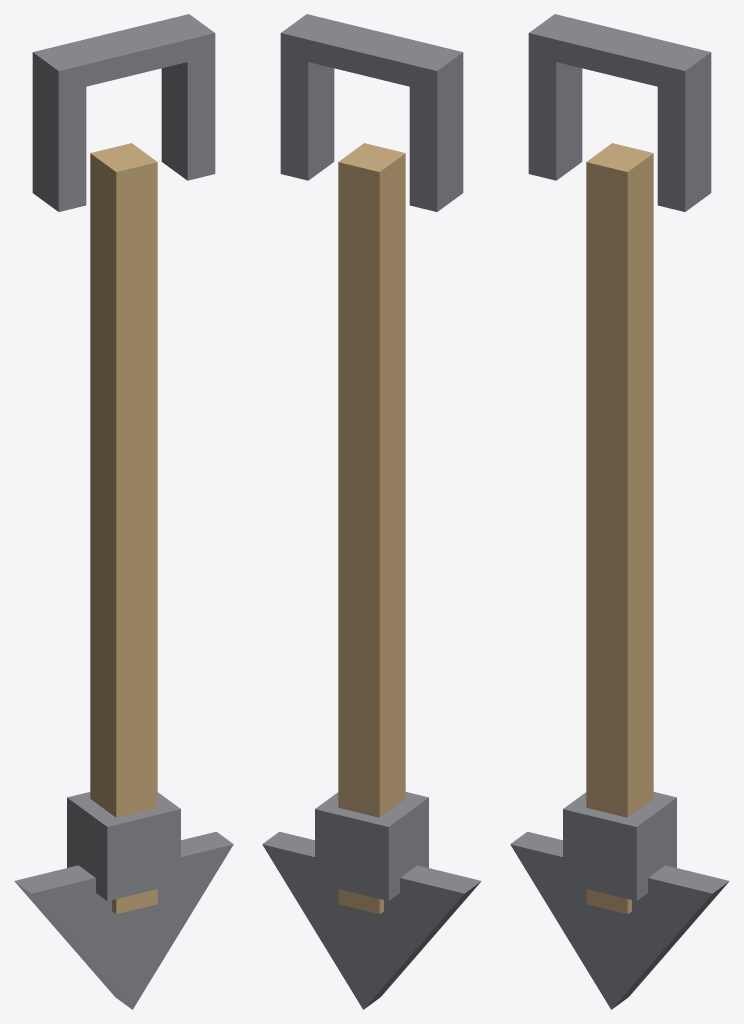
The model's file is Shovel.fbx.
3 renders of one model, left to right at view 1: azimuth 30°, elevation 25°; view 2: azimuth 150°, elevation 25°; view 3: azimuth 330°, elevation 25°, orthographic.
Parts seen in each view (by area): view 1: Shovel_Shaft, Shovel_Blade, Shovel_Socket, Shovel_HandleTop, Shovel_HandleL, Shovel_HandleR; view 2: Shovel_Shaft, Shovel_Blade, Shovel_Socket, Shovel_HandleTop, Shovel_HandleL, Shovel_HandleR; view 3: Shovel_Shaft, Shovel_Blade, Shovel_Socket, Shovel_HandleTop, Shovel_HandleR, Shovel_HandleL.
Boxes of the visible parts, <box> form: Shovel_Shaft: <box>90,143,157,914</box>; Shovel_Blade: <box>14,831,233,1009</box>; Shovel_Socket: <box>67,792,180,901</box>; Shovel_HandleTop: <box>32,14,215,92</box>; Shovel_HandleL: <box>32,67,86,211</box>; Shovel_HandleR: <box>161,48,215,180</box>; Shovel_Shaft: <box>338,143,405,914</box>; Shovel_Blade: <box>262,831,481,1009</box>; Shovel_Socket: <box>315,792,428,901</box>; Shovel_HandleTop: <box>280,14,463,93</box>; Shovel_HandleL: <box>409,67,463,211</box>; Shovel_HandleR: <box>280,48,334,180</box>; Shovel_Shaft: <box>586,143,653,914</box>; Shovel_Blade: <box>510,831,729,1009</box>; Shovel_Socket: <box>563,792,676,901</box>; Shovel_HandleTop: <box>528,14,711,93</box>; Shovel_HandleR: <box>657,67,711,211</box>; Shovel_HandleL: <box>528,48,582,180</box>.
Size of the model in its own units: 26 by 118 by 9.
